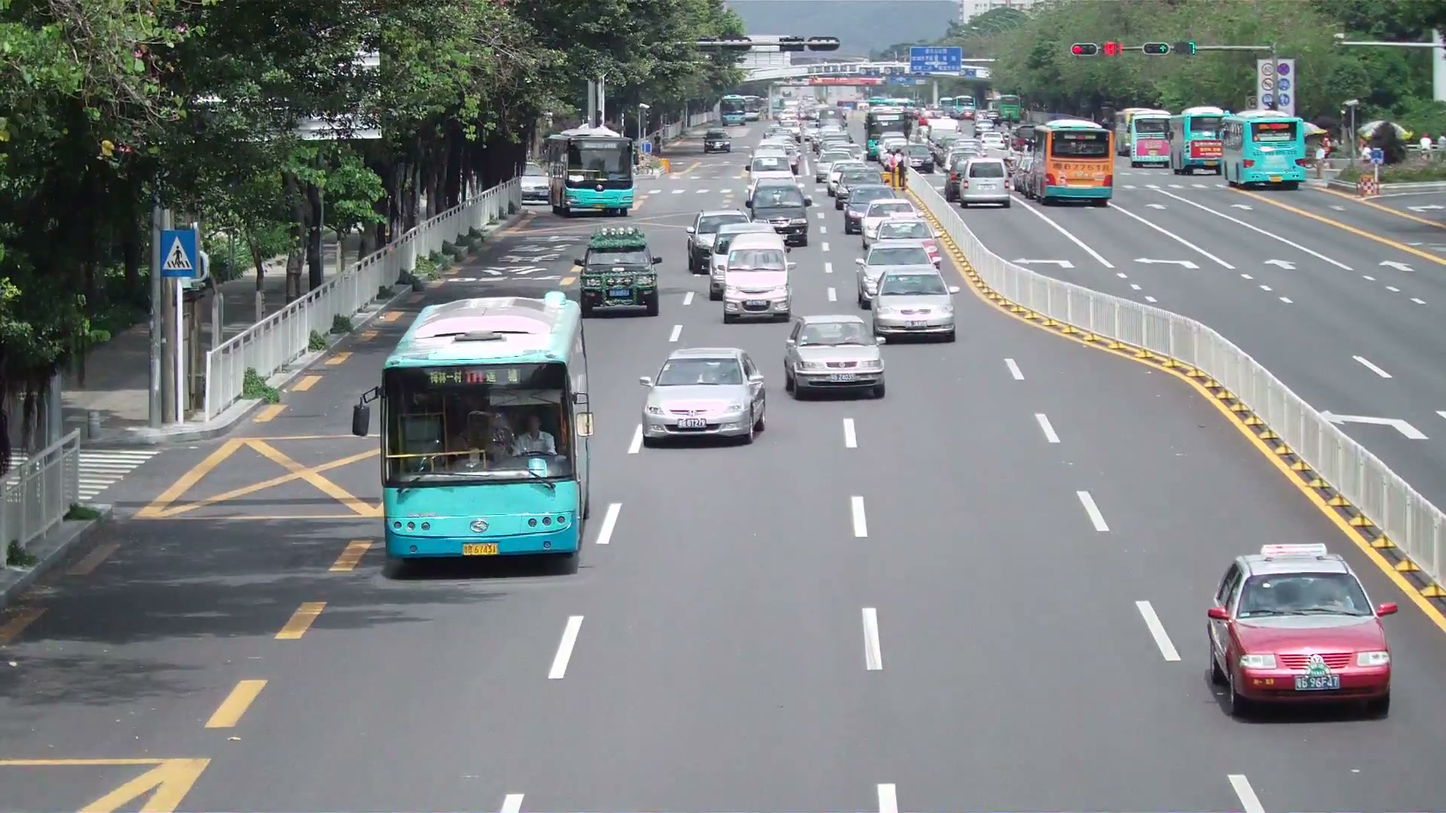bus: (352, 289, 594, 566), (547, 126, 635, 216), (1221, 110, 1309, 190), (1040, 117, 1114, 206), (1177, 105, 1230, 174), (1123, 107, 1177, 169)
car: (1204, 547, 1395, 719), (639, 345, 769, 448), (782, 313, 887, 400), (872, 267, 957, 344), (720, 236, 791, 323), (684, 208, 755, 272), (746, 181, 812, 246), (957, 158, 1013, 210), (704, 132, 733, 153)
pedestrian: (509, 409, 557, 456)
truck: (547, 126, 636, 216), (580, 223, 662, 318), (1221, 111, 1308, 189)
